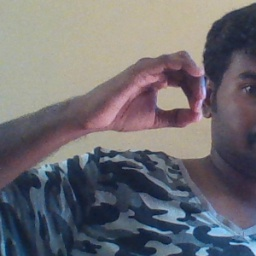O: (85, 46, 208, 137)
